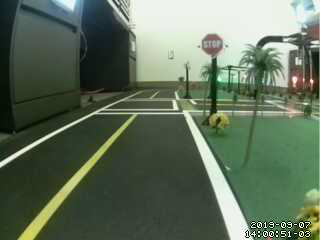Stop_Sign: (197, 29, 230, 58)
